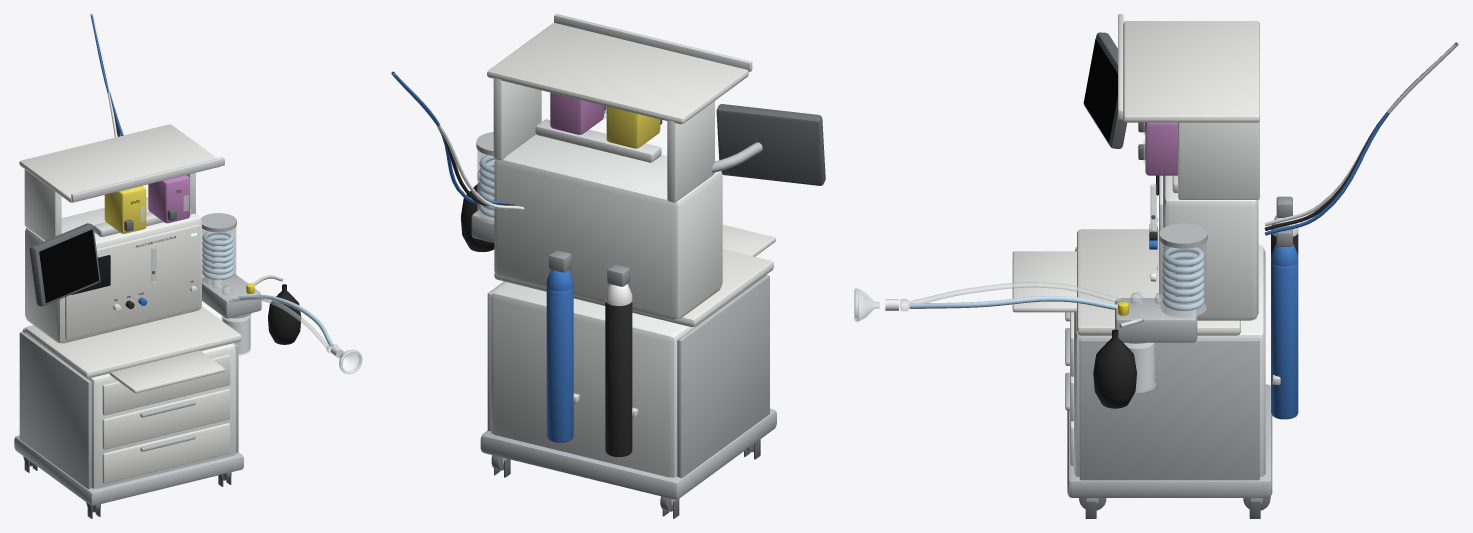
The model's file is AnaesthesiaMachine.fbx.
3 renders of one model, left to right at view 1: azimuth 30°, elevation 25°; view 2: azimuth 150°, elevation 25°; view 3: azimuth 270°, elevation 25°, orthographic. The views are drawn at different scales.
Visible parts, largest first — view 1: AnaesthesiaMachine_Mesh, AnaesthesiaMachine_Screen_anaesthesia; view 2: AnaesthesiaMachine_Mesh; view 3: AnaesthesiaMachine_Mesh, AnaesthesiaMachine_Screen_anaesthesia.
Boxes of the visible parts, x1=… form: AnaesthesiaMachine_Mesh: x1=14, y1=14, x2=362, y2=518; AnaesthesiaMachine_Screen_anaesthesia: x1=39, y1=229, x2=99, y2=302; AnaesthesiaMachine_Mesh: x1=391, y1=14, x2=825, y2=518; AnaesthesiaMachine_Mesh: x1=854, y1=14, x2=1458, y2=518; AnaesthesiaMachine_Screen_anaesthesia: x1=1083, y1=39, x2=1117, y2=142.
Bounding box in the file's own units: 1.5 × 1.93 × 2.21.
